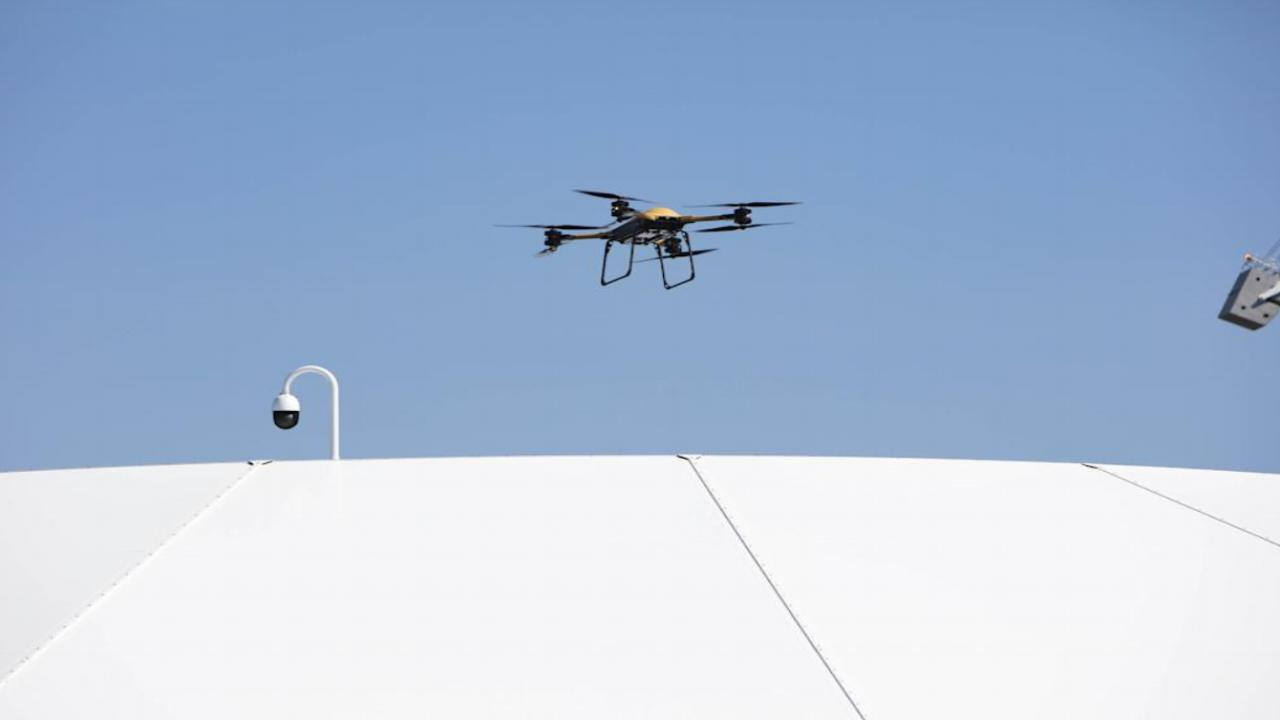Drone: (483, 175, 815, 303)
